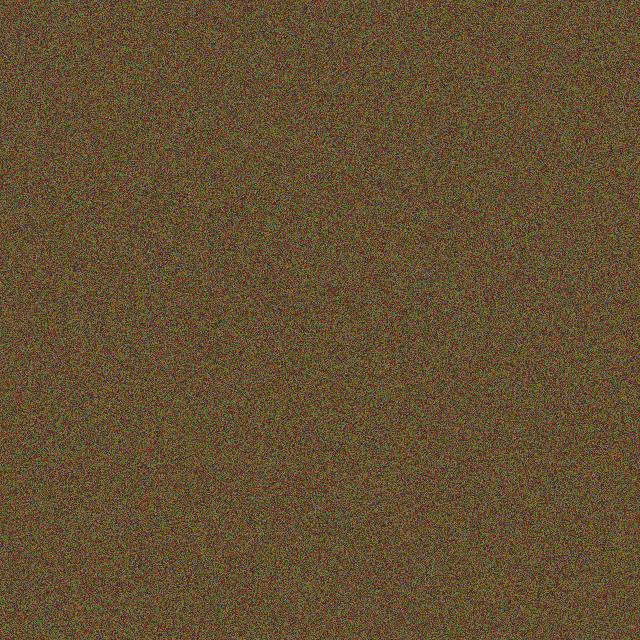human: (219, 273, 290, 309)
